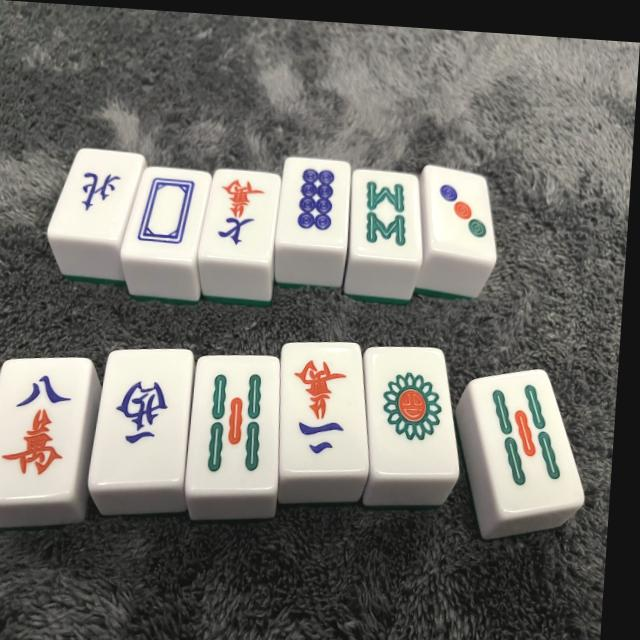1D: (355, 343, 466, 482)
2C: (274, 339, 377, 479)
3D: (418, 165, 503, 260)
5B: (463, 363, 598, 523), (188, 353, 286, 499)
7C: (199, 168, 280, 264)
8B: (348, 169, 427, 260)
8C: (0, 354, 95, 513)
8D: (275, 157, 352, 249)
NW: (48, 147, 146, 243)
WD: (120, 166, 214, 264)
WW: (89, 345, 195, 496)
